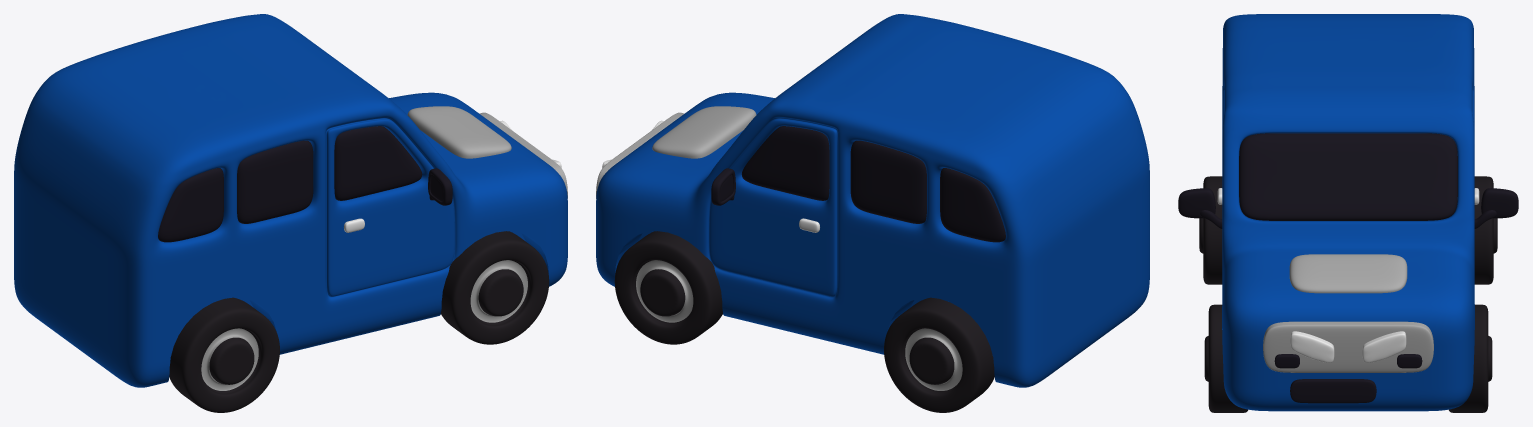
The model's file is suv-car-3d-icon-739067454198.glb.
3 views of the same model, side by side, from view 1: azimuth 30°, elevation 25°; view 2: azimuth 150°, elevation 25°; view 3: azimuth 270°, elevation 25° (orthographic). The views are drawn at different scales.
Parts seen in each view (by area): view 1: Body, Tires, Windows, Hood, Rims, Mirrors, Front Panel; view 2: Body, Tires, Windows, Hood, Rims, Mirrors, Front Panel; view 3: Body, Windows, Tires, Front Panel, Hood, Mirrors, Plate Number, Lamp, Sign Lamp.
Boxes of the visible parts, box(x1,y1,x2,y2) form: Body: box(14, 14, 567, 387); Tires: box(169, 231, 549, 412); Windows: box(158, 126, 422, 242); Hood: box(407, 106, 511, 158); Rims: box(201, 260, 527, 390); Mirrors: box(428, 168, 452, 205); Front Panel: box(479, 112, 567, 198); Body: box(596, 14, 1149, 387); Tires: box(614, 231, 994, 412); Windows: box(741, 126, 1005, 242); Hood: box(652, 106, 756, 158); Rims: box(636, 260, 962, 390); Mirrors: box(711, 168, 735, 205); Front Panel: box(596, 112, 684, 198); Body: box(1222, 14, 1474, 411); Windows: box(1239, 133, 1457, 220); Tires: box(1199, 176, 1497, 412); Front Panel: box(1263, 321, 1433, 372); Hood: box(1289, 254, 1407, 293); Mirrors: box(1178, 188, 1518, 228); Plate Number: box(1290, 379, 1376, 403); Lamp: box(1290, 331, 1406, 362); Sign Lamp: box(1274, 354, 1422, 368).
Bounding box in the file's own units: 0.8459 × 0.4678 × 0.5587.
